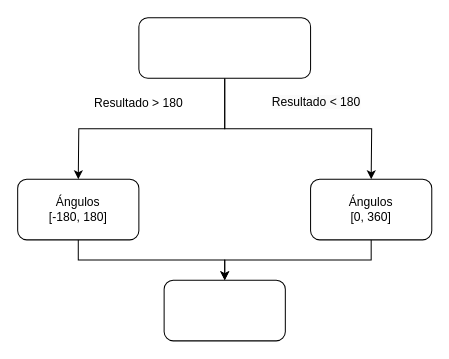
Image size: 449x359. Some labels were removed from this diagram. Here are the shapes that lost their labels. From the top down, the centre of each, then its label:
pixel 224 47: Calcular: ángulo de la línea - ángulo del robot con la línea
pixel 224 310: Aplicar fórmula de la orientación
